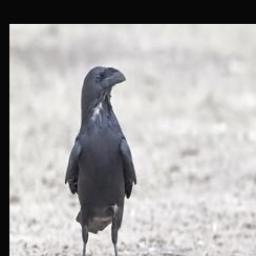Crow: (63, 65, 138, 256)
